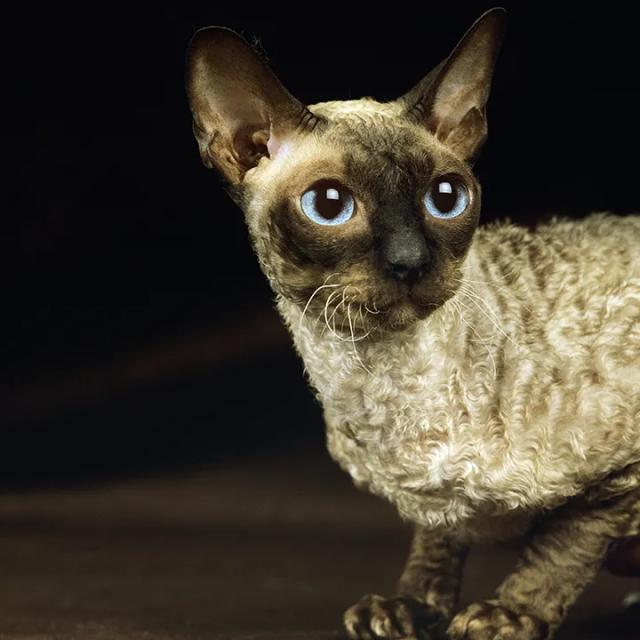Cornish Rex: (178, 1, 640, 640)
